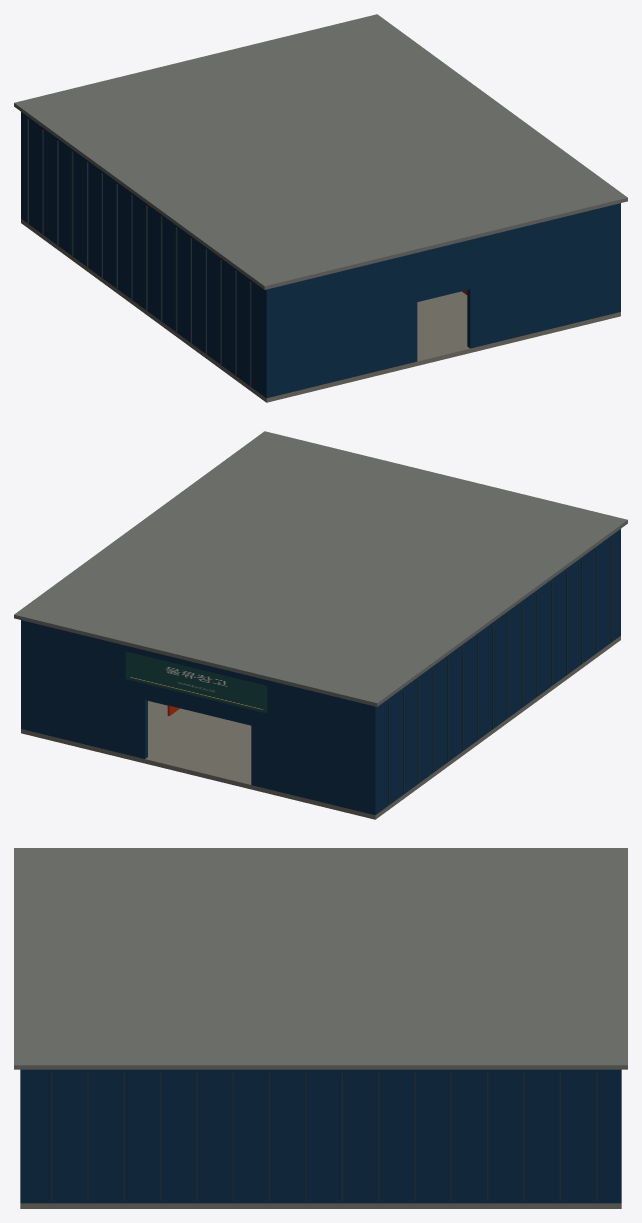
Rendered from warehouse.obj.
3 renders of one model, top to bottom at view 1: azimuth 30°, elevation 25°; view 2: azimuth 150°, elevation 25°; view 3: azimuth 270°, elevation 25°, orthographic. The views are drawn at different scales.
Parts seen in each view (by area): view 1: Concrete, Industrial_Blue, Interior_Floor, Roof_Metal; view 2: Concrete, Industrial_Blue, Interior_Floor, Sign_Atlas, Roof_Metal; view 3: Concrete, Industrial_Blue, Roof_Metal, Interior_Floor.
Part boxes in pixels (box(x1,y1,x2,y2)): Concrete: box(14, 14, 627, 289); Industrial_Blue: box(21, 112, 620, 398); Interior_Floor: box(21, 219, 620, 402); Roof_Metal: box(27, 119, 251, 386); Concrete: box(14, 431, 627, 706); Industrial_Blue: box(21, 529, 620, 815); Interior_Floor: box(21, 636, 620, 819); Sign_Atlas: box(125, 651, 267, 713); Roof_Metal: box(388, 538, 612, 804); Concrete: box(14, 848, 627, 1069); Industrial_Blue: box(20, 1069, 621, 1203); Roof_Metal: box(51, 1073, 597, 1200); Interior_Floor: box(20, 1203, 621, 1208).
Size of the model in its own units: 20.5 by 6.44 by 24.5.
